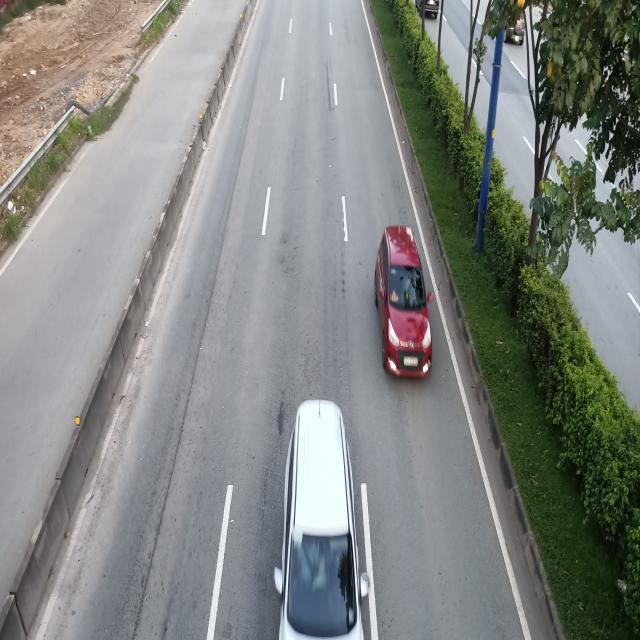car: (274, 402, 371, 640), (375, 224, 434, 378)
